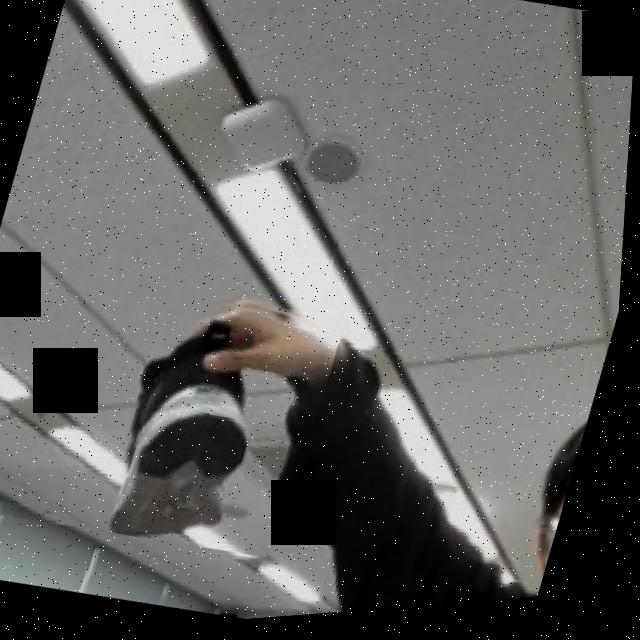shoe: (0, 251, 355, 581)
